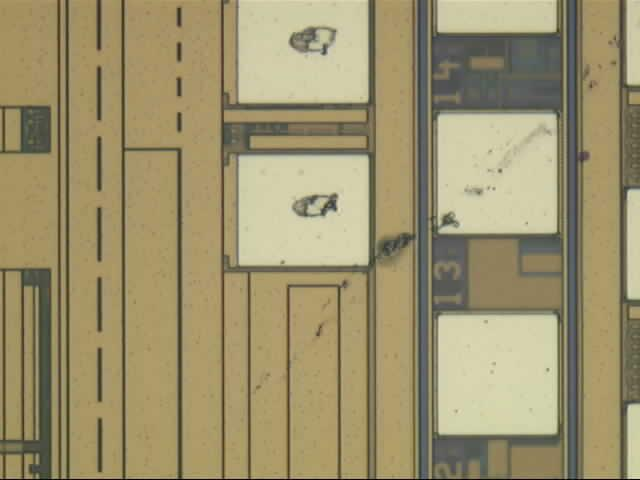SCRATCH: (238, 27, 637, 404)
